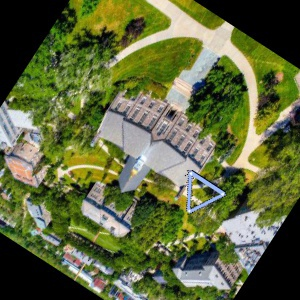triangle: (184, 168, 226, 216)
